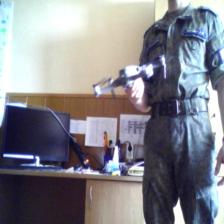drone: (91, 52, 171, 102)
